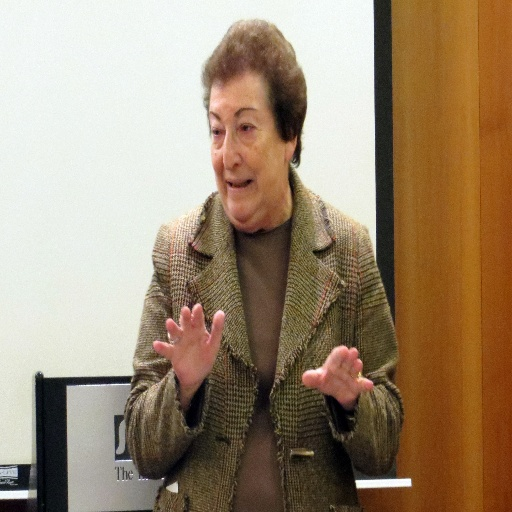hand: (151, 304, 224, 387), (302, 345, 371, 407)
